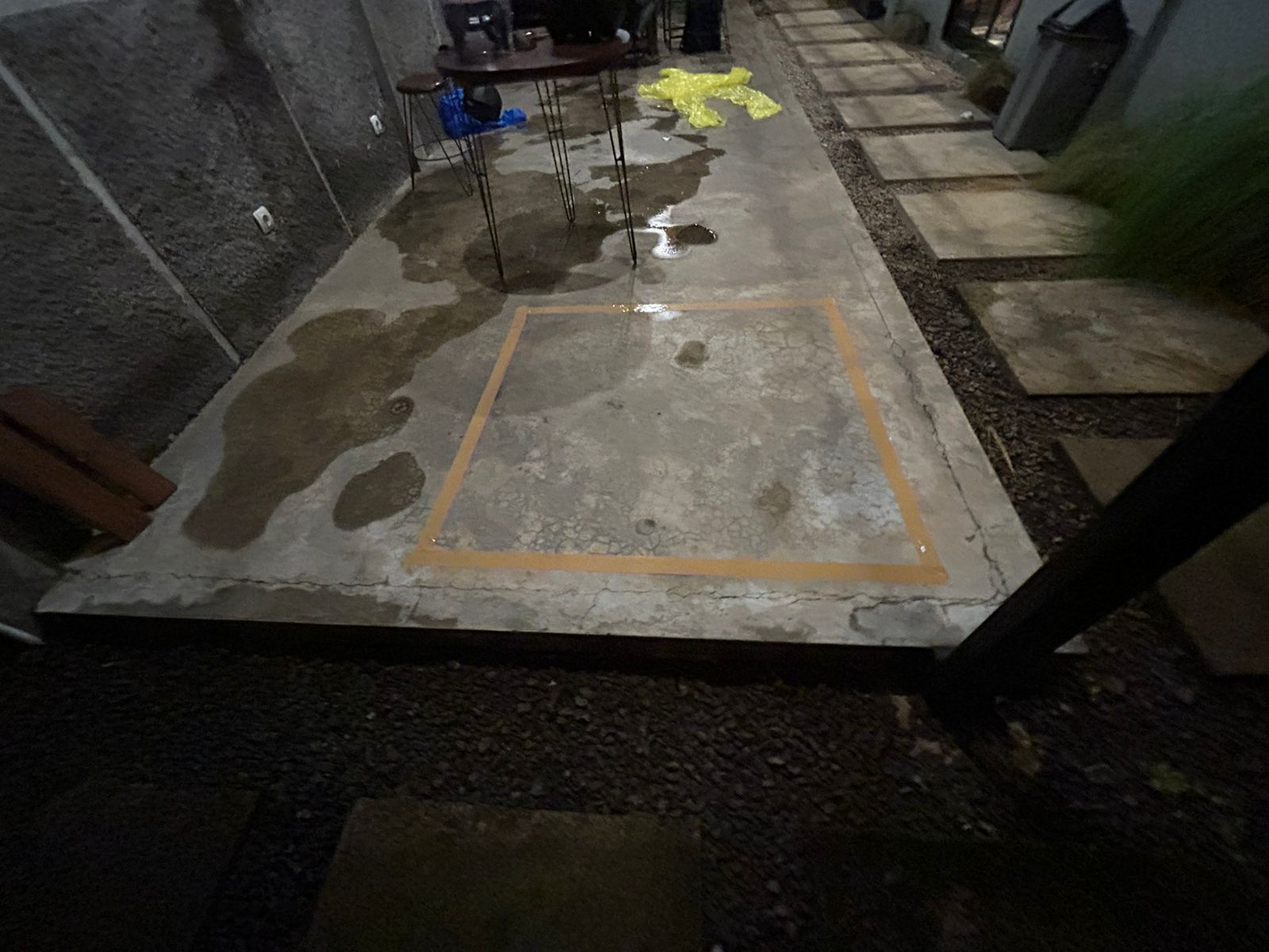floor marking: (403, 298, 947, 583)
